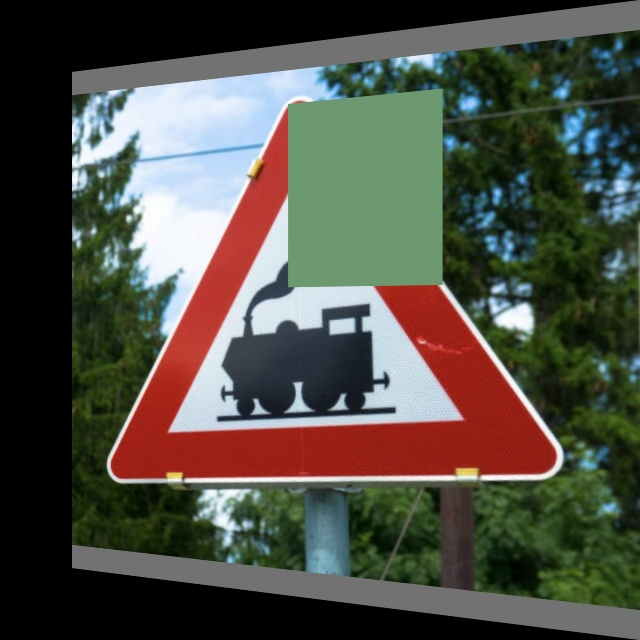Unguarded_Level_Crossing: (120, 74, 550, 505)
